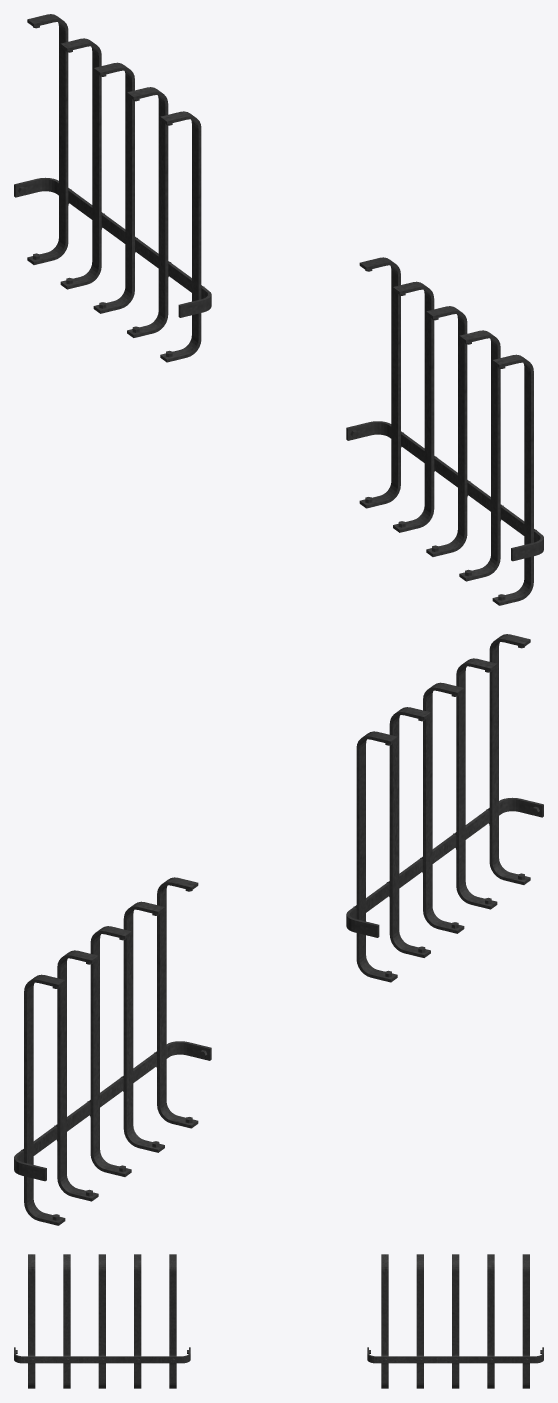
The picture shows the model from 3 angles, top to bottom: view 1: azimuth 30°, elevation 25°; view 2: azimuth 150°, elevation 25°; view 3: azimuth 270°, elevation 25°; orthographic projection. The views are drawn at different scales.
Visible parts, largest first — view 1: metal_bars_double; view 2: metal_bars_double; view 3: metal_bars_double.
Part boxes in pixels (x1,y1,x2,y2): metal_bars_double: (14,14,543,605); metal_bars_double: (14,634,543,1225); metal_bars_double: (14,1254,543,1388).
Size of the model in its own units: 0.141 by 0.8 by 3.
Materials: 1 (1 with a texture image).
